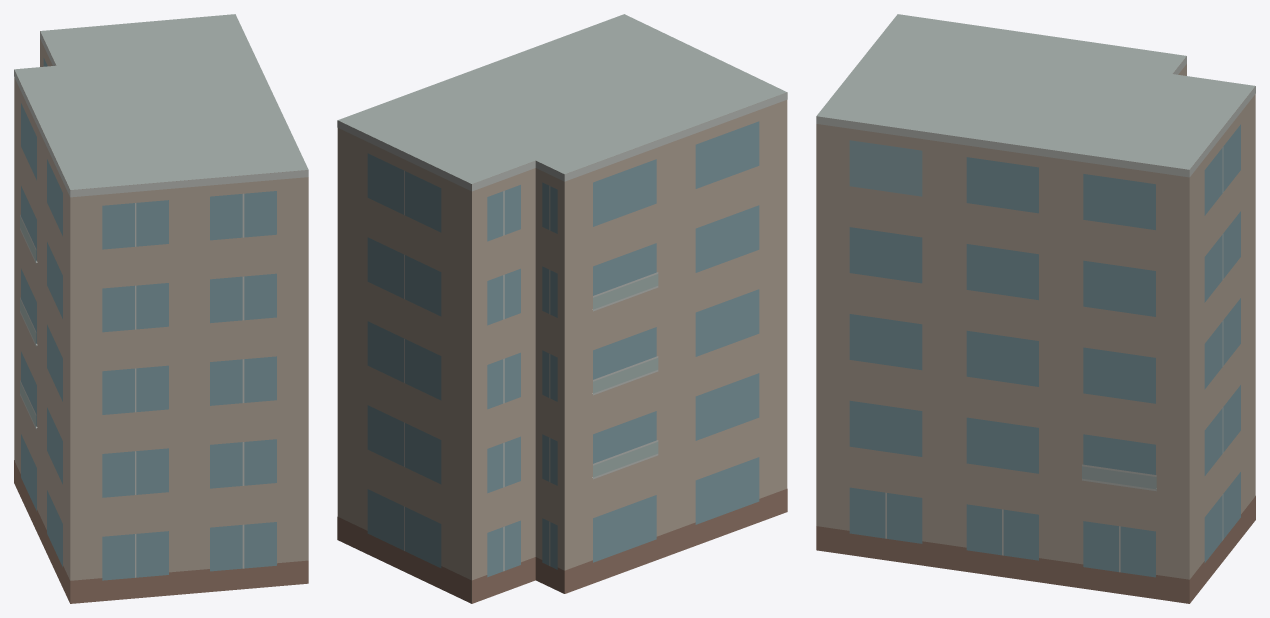
Rendered from survey-upis-32537582.glb.
3 views of the same model, side by side, from view 1: azimuth 30°, elevation 25°; view 2: azimuth 150°, elevation 25°; view 3: azimuth 270°, elevation 25° (orthographic). The views are drawn at different scales.
Visible parts, largest first — view 1: survey-upis-32537582.tmp; view 2: survey-upis-32537582.tmp; view 3: survey-upis-32537582.tmp.
Part boxes in pixels (x1,y1,x2,y2): survey-upis-32537582.tmp: (14, 14, 308, 603); survey-upis-32537582.tmp: (337, 14, 787, 603); survey-upis-32537582.tmp: (816, 14, 1255, 603).
Size of the model in its own units: 10.71 by 13.9 by 12.76.
